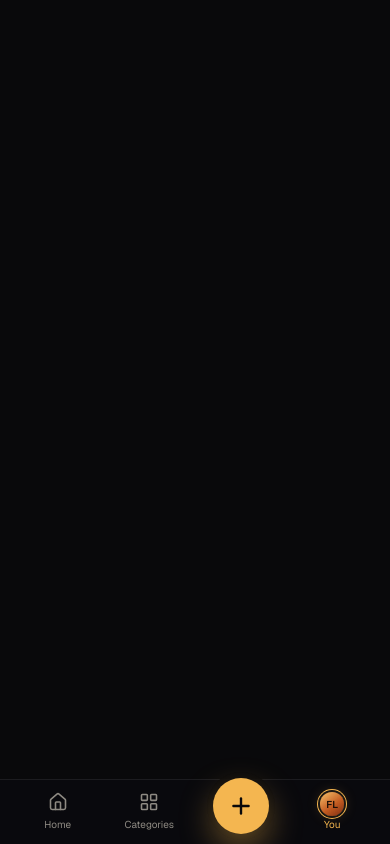
MobileBottomNav › opens the account menu as a sheet
This screenshot has width=390, height=844.
What coordinates should you click on to do the following:
click the button "FL You"
I would click on:
 (332, 812)
Its box is [286, 790, 378, 834].
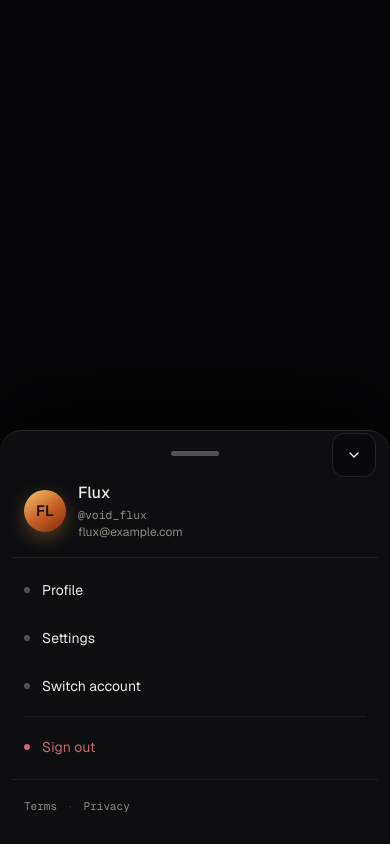
Expected: the text "@void_flux" is shown, [78, 507, 147, 522]
Expected: the link "Profile" is shown, [24, 580, 83, 598]
Expected: the link "Settings" is shown, [24, 628, 95, 646]
